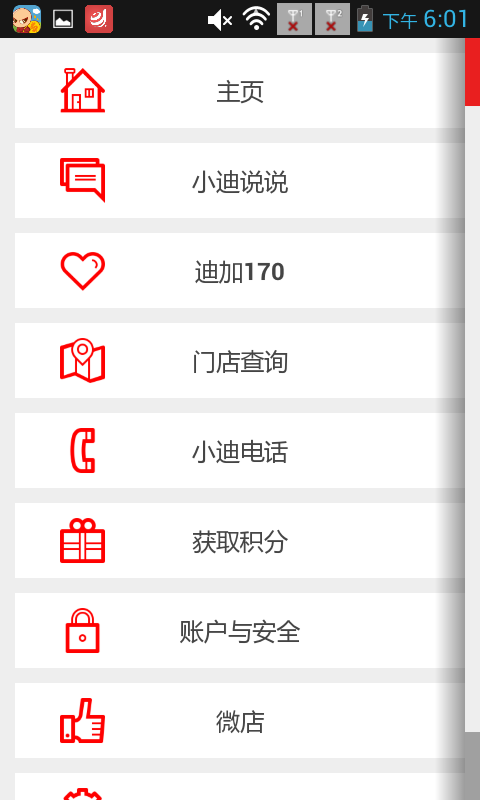textview: (19, 52, 456, 131)
